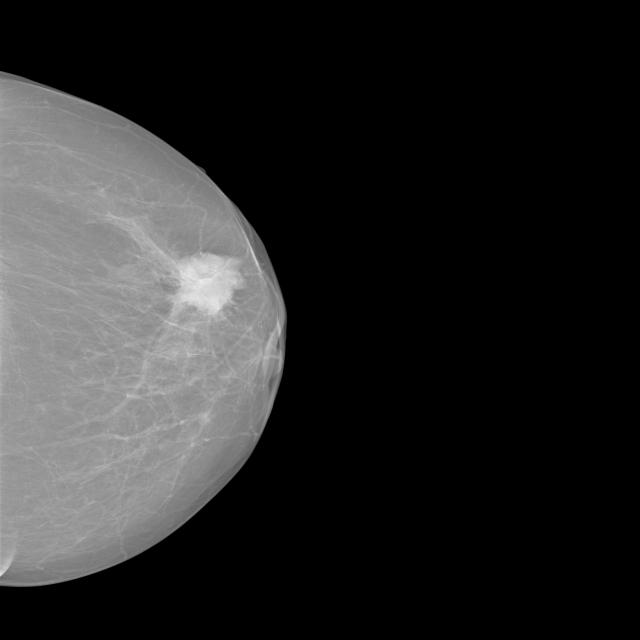Mass_1: (140, 234, 276, 333)
